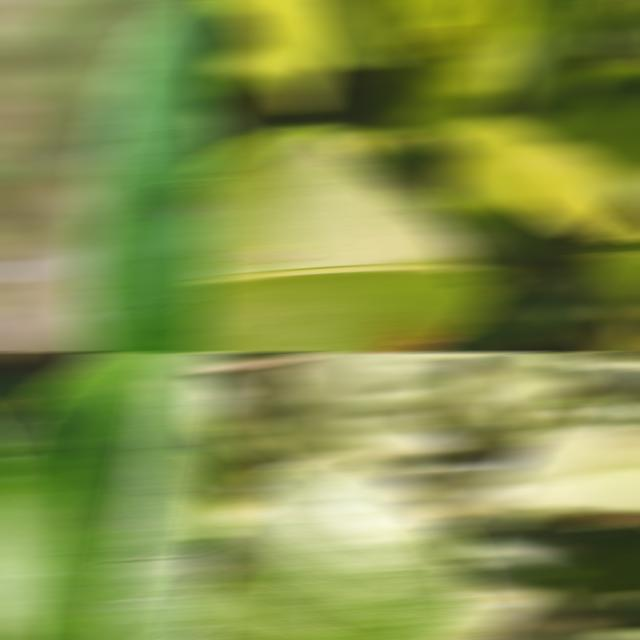Leaf: (194, 130, 508, 352), (0, 352, 214, 640), (194, 452, 480, 640), (75, 0, 214, 352), (435, 115, 640, 235), (258, 352, 464, 468), (388, 0, 523, 137), (485, 424, 640, 513), (230, 0, 341, 113), (490, 0, 589, 112), (542, 92, 640, 174), (454, 571, 569, 640), (194, 452, 257, 538), (376, 0, 483, 50), (584, 239, 640, 313), (597, 214, 640, 241)
